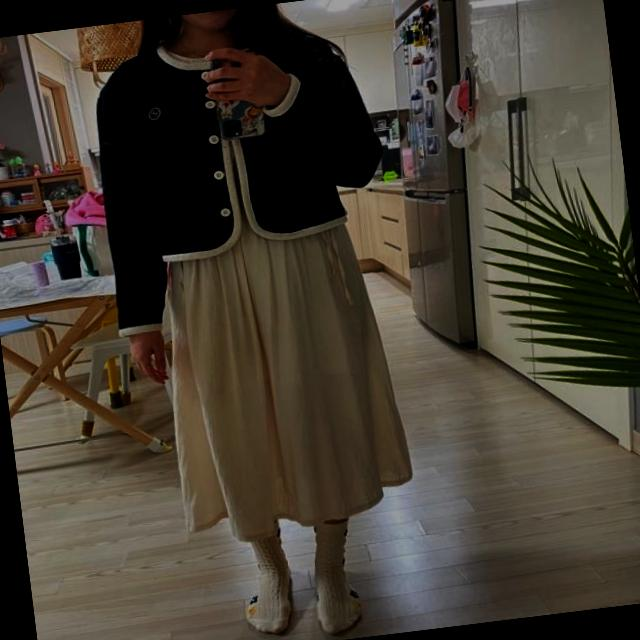cardigan: (82, 13, 402, 338)
skirt: (147, 206, 420, 545)
